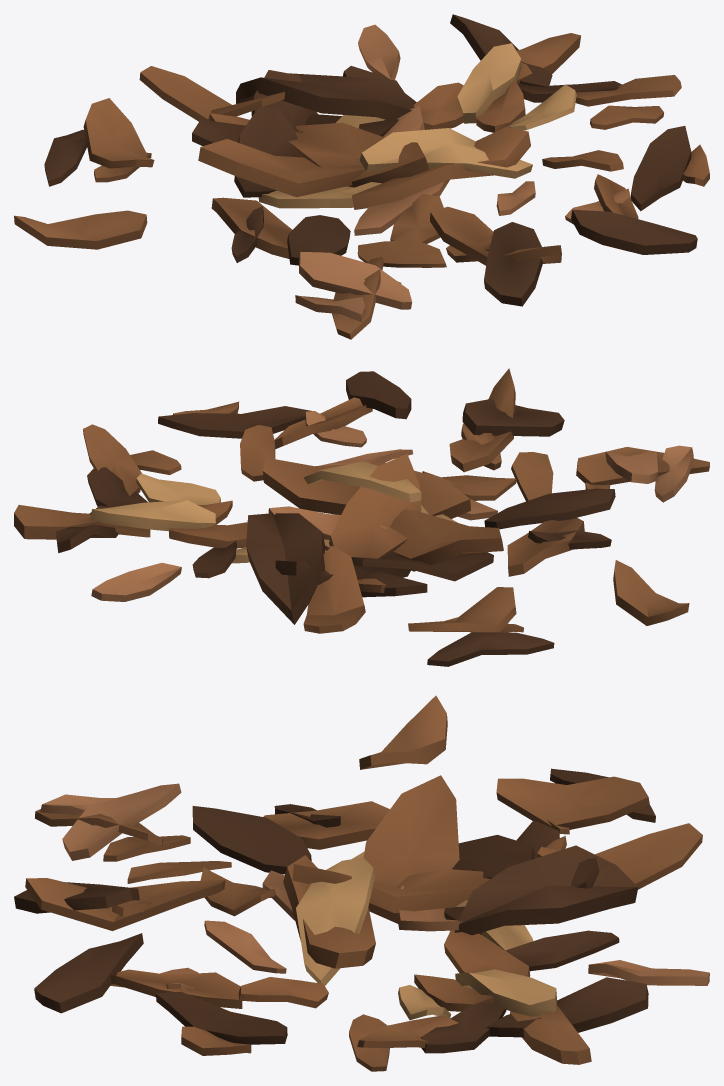
File: canopy_gc_bark_bits_b.glb
3 views of the same model, one above another, from view 1: azimuth 30°, elevation 25°; view 2: azimuth 150°, elevation 25°; view 3: azimuth 270°, elevation 25° (orthographic). The views are drawn at different scales.
Parts seen in each view (by area): view 1: canopy_gc_bark_bits_b; view 2: canopy_gc_bark_bits_b; view 3: canopy_gc_bark_bits_b.
Boxes of the visible parts, box(x1,y1,x2,y2) form: canopy_gc_bark_bits_b: box(14, 14, 709, 339); canopy_gc_bark_bits_b: box(14, 368, 709, 666); canopy_gc_bark_bits_b: box(14, 695, 709, 1071).
Bounding box in the file's own units: 5.95 × 0.4851 × 5.01.
